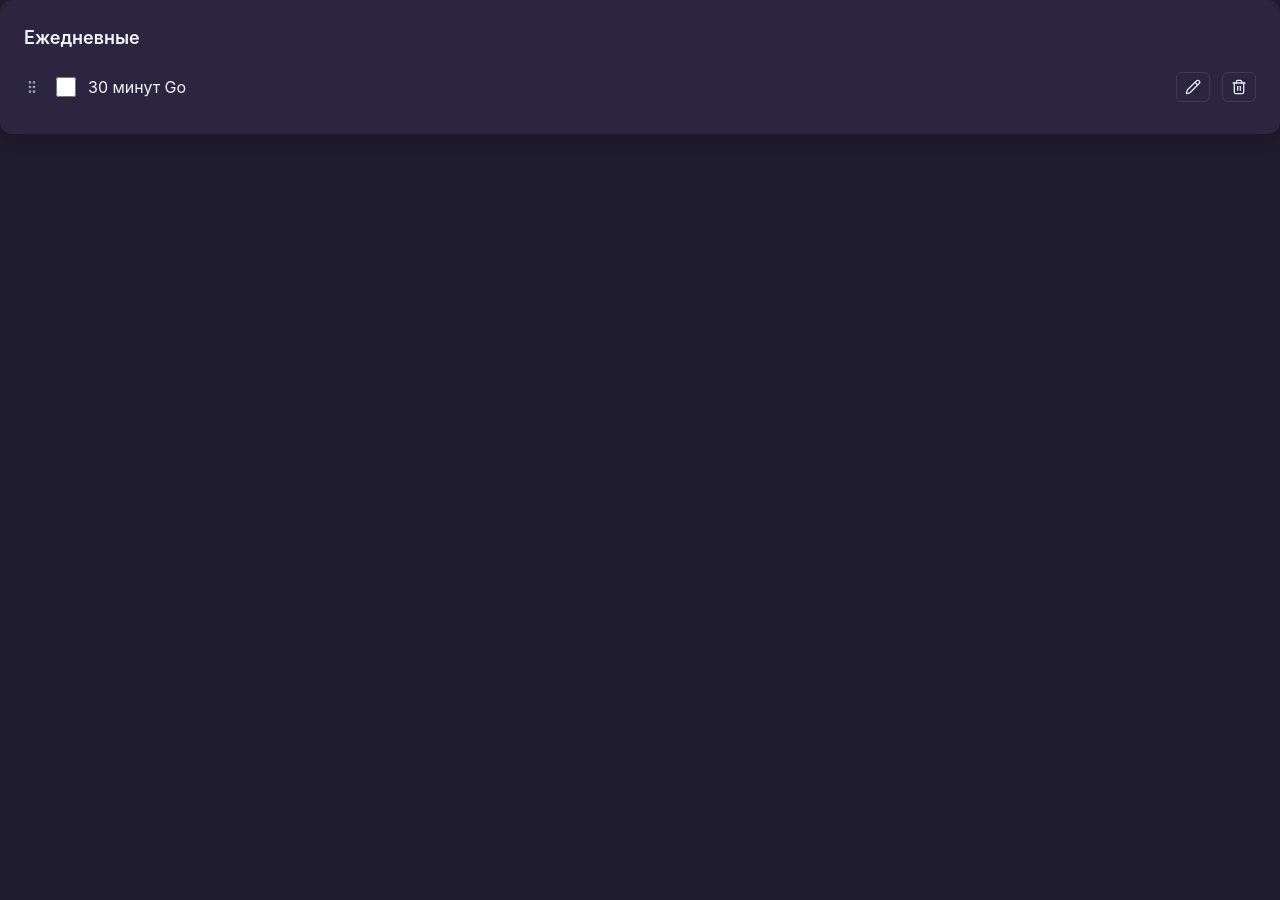
Test: TaskList › shows a validation error of an edit
Click the button named "Изменить": (1193, 87) [1176,72,1210,102]
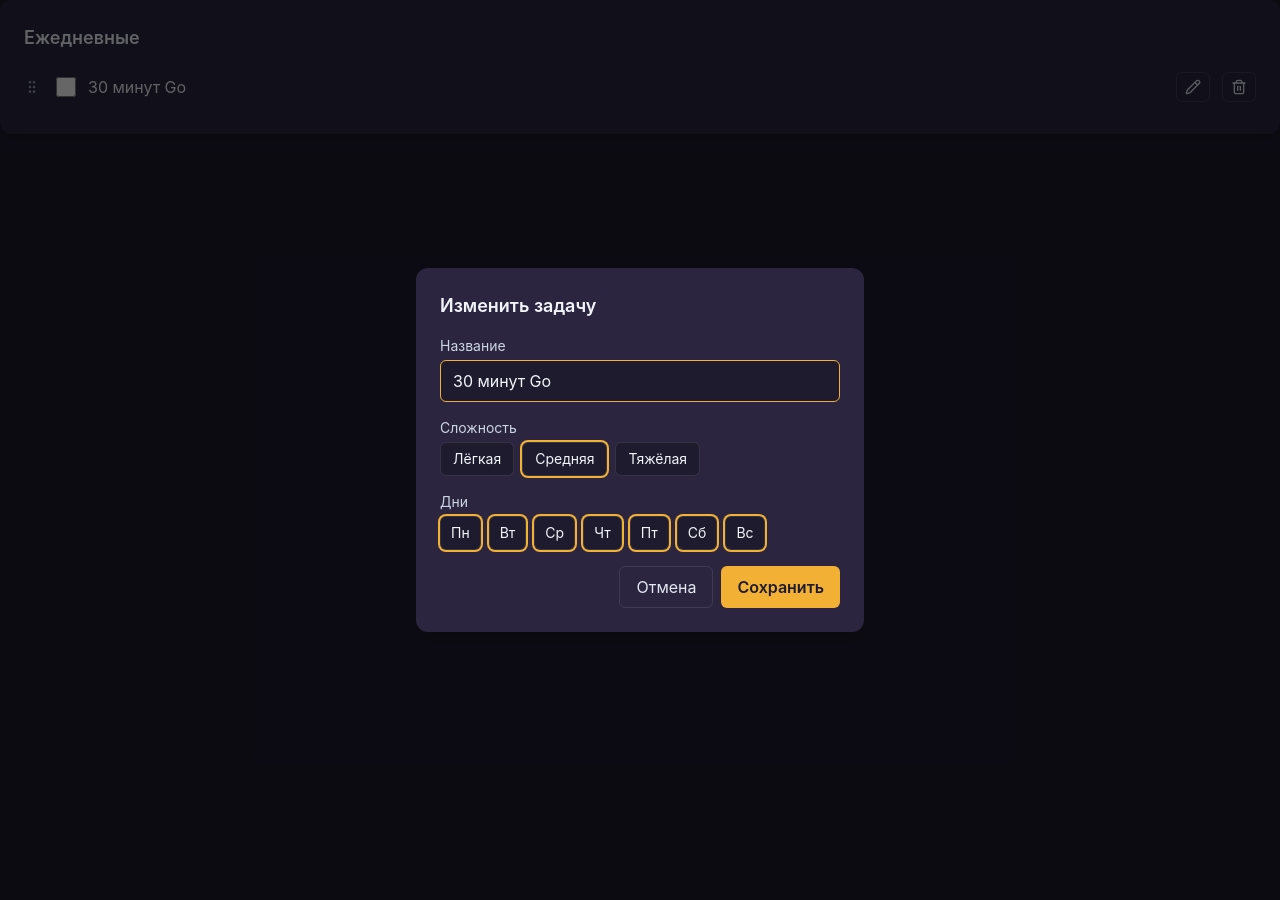
Replace the text in the field named "edit-title" with "Очень длинное название": (640, 381) [440,360,840,402]
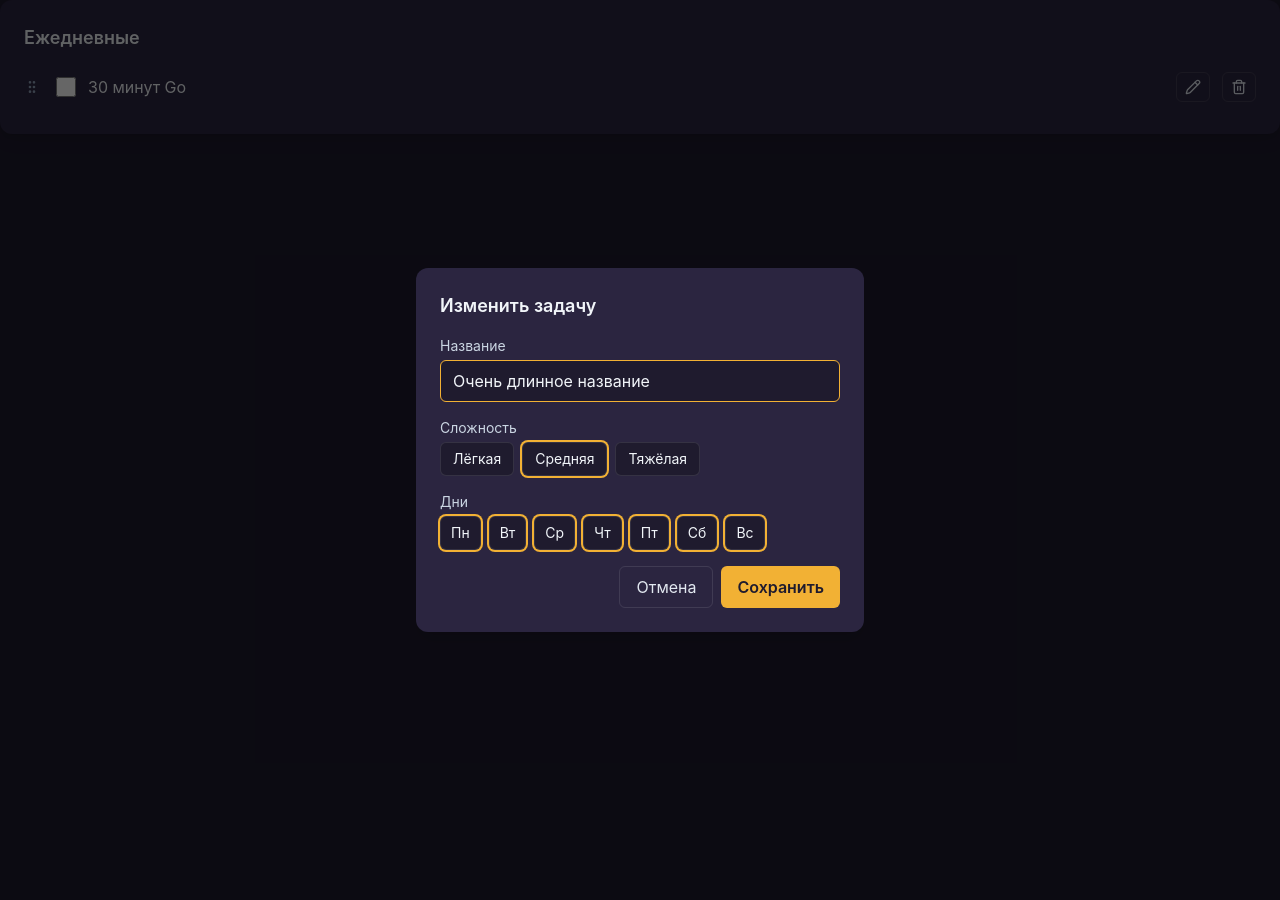
Submit the form, box [416,268,864,632]
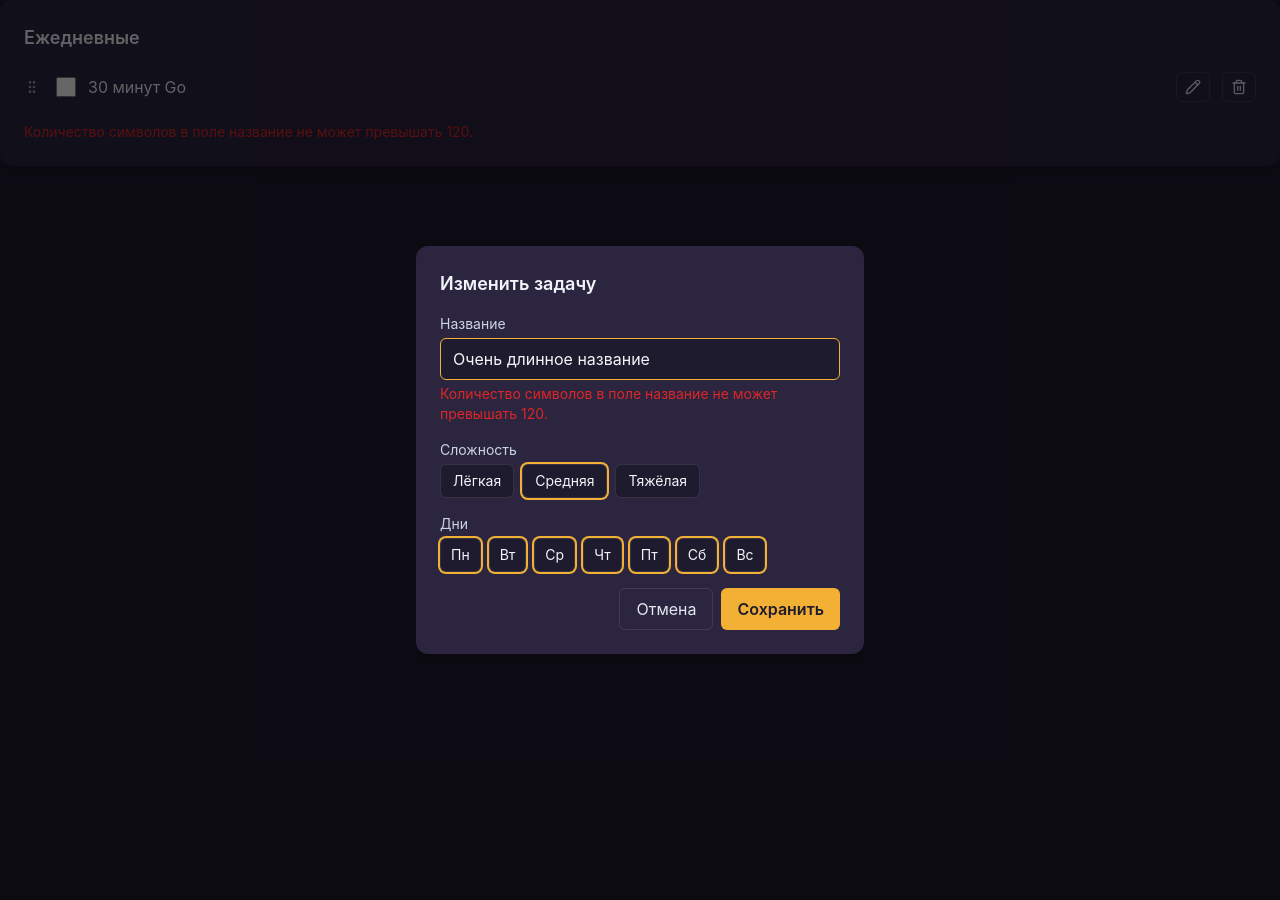
Now the message "Количество символов в поле название не может превышать 120." below "Изменить задачу" is shown, box [440,385,777,422]
